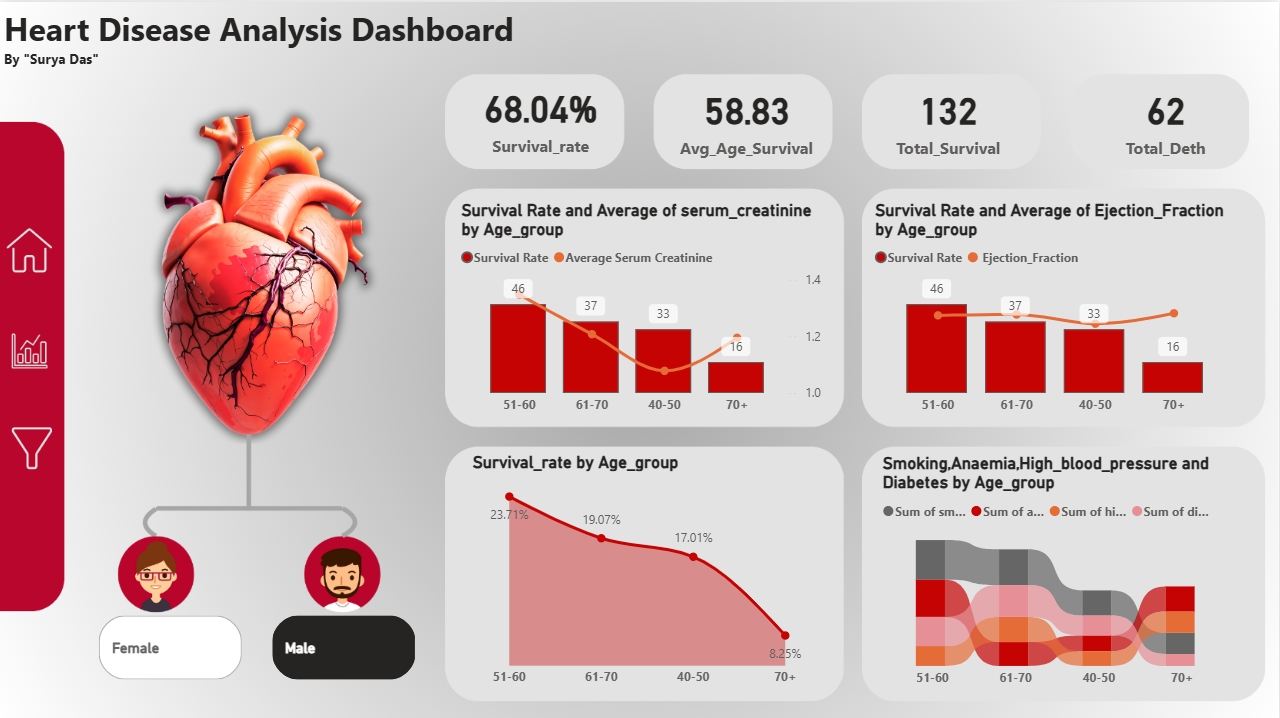

The dashboard page shown, as its layout file describes it:
{"tool":"powerbi","page":{"name":"Page 1","canvas":[1280,720],"ordinal":0},"visuals":[{"type":"card","fields":{"Values":["heart_Disease_clinical_records_.Survival_rate"]},"box":[443.2,56.3,196.2,118],"z":0},{"type":"card","fields":{"Values":["Measures (2).Avg_Age_Survival"]},"box":[596.9,72.7,300.5,89.2],"z":1000},{"type":"card","fields":{"Values":["Measures (2).Total_Survival"]},"box":[871.4,72.7,156.4,89.2],"z":2000},{"type":"card","fields":{"Values":["Measures (2).Total_Deth"]},"box":[1082.7,72.7,168.8,89.2],"z":3000},{"type":"lineClusteredColumnComboChart","title":"Survival Rate and Average of serum_creatinine by Age_group","fields":{"Category":["heart_Disease_clinical_records_.Age_group"],"Y":["CountNonNull(heart_Disease_clinical_records_.DEATH_EVENT)"],"Y2":["Avg(heart_Disease_clinical_records_.serum_creatinine)"]},"box":[456.9,197.6,371.9,223.7],"z":4000},{"type":"lineClusteredColumnComboChart","title":"Survival Rate and Average of Ejection_Fraction by Age_group","fields":{"Category":["heart_Disease_clinical_records_.Age_group"],"Y":["CountNonNull(heart_Disease_clinical_records_.DEATH_EVENT)"],"Y2":["Avg(heart_Disease_clinical_records_.ejection_fraction)"]},"box":[871.4,197.6,371.9,223.7],"z":5000},{"type":"lineChart","fields":{"Category":["heart_Disease_clinical_records_.Age_group"],"Y":["Measures (2).Survival_rate"]},"box":[469.3,450.1,359.5,242.9],"z":6000},{"type":"ribbonChart","title":"Smoking,Anaemia,High_blood_pressure and Diabetes by Age_group","fields":{"Category":["heart_Disease_clinical_records_.Age_group"],"Y":["Sum(heart_Disease_clinical_records_.smoking)","Sum(heart_Disease_clinical_records_.anaemia)","Sum(heart_Disease_clinical_records_.high_blood_pressure)","Sum(heart_Disease_clinical_records_.diabetes)"]},"box":[878.2,451.5,359.5,242.9],"z":7000},{"type":"advancedSlicerVisual","fields":{"Values":["heart_Disease_clinical_records_.Gender"]},"box":[95.3,609.3,501.9,74.8],"z":8000},{"type":"textbox","box":[0,0,541.2,158.8],"z":8001}]}

Visuals, with their boxes in screenshot pixels (x1, y1, x2, y2), scaled from the page's 1280x720 canvas onto the 1280x718 screenshot:
card - heart_Disease_clinical_records_.Survival_rate: [443,56,639,174]
card - Measures (2).Avg_Age_Survival: [597,72,897,161]
card - Measures (2).Total_Survival: [871,72,1028,161]
card - Measures (2).Total_Deth: [1083,72,1252,161]
"Survival Rate and Average of serum_creatinine by Age_group" lineClusteredColumnComboChart: [457,197,829,420]
"Survival Rate and Average of Ejection_Fraction by Age_group" lineClusteredColumnComboChart: [871,197,1243,420]
lineChart - heart_Disease_clinical_records_.Age_group x Measures (2).Survival_rate: [469,449,829,691]
"Smoking,Anaemia,High_blood_pressure and Diabetes by Age_group" ribbonChart: [878,450,1238,692]
advancedSlicerVisual - heart_Disease_clinical_records_.Gender: [95,608,597,682]
textbox: [0,0,541,158]
